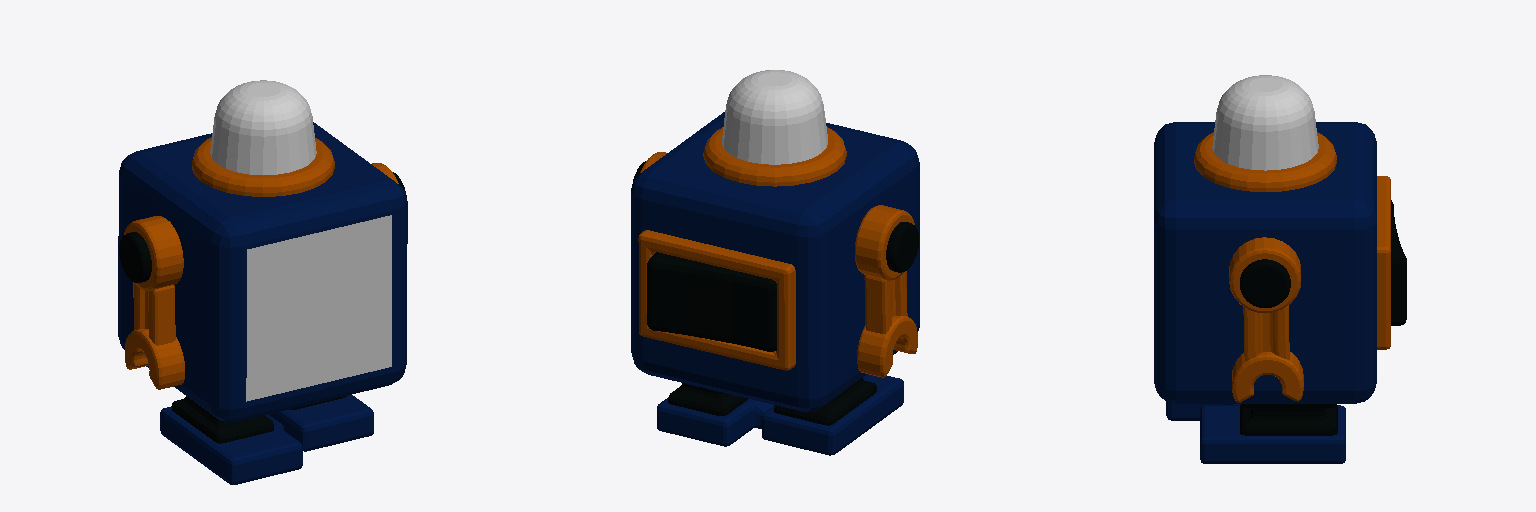
The model's file is blokky.obj.
3 renders of one model, left to right at view 1: azimuth 30°, elevation 25°; view 2: azimuth 150°, elevation 25°; view 3: azimuth 270°, elevation 25°, orthographic.
Visible parts, largest first — view 1: Cube, blokky-smile, Circle, Cylinder, Cube.002_Cube.001, Cube.001; view 2: Cube, Circle, Cube.004_Cube.003, Cylinder, Cube.003_Cube.002, Cube.002_Cube.001, Cube.001; view 3: Cube, Circle, Cylinder.001_Cylinder, Cube.001, Cube.003_Cube.002, Cube.004_Cube.003, Cube.002_Cube.001.
Part boxes in pixels (x1,y1,x2,y2): Cube: (118,122,407,421); blokky-smile: (246,215,391,401); Circle: (192,80,334,196); Cylinder: (119,216,184,389); Cube.002_Cube.001: (160,396,302,484); Cube.001: (268,395,373,451); Cube: (631,112,919,411); Circle: (703,70,846,186); Cube.004_Cube.003: (647,252,776,351); Cylinder: (855,205,918,377); Cube.003_Cube.002: (638,230,795,370); Cube.002_Cube.001: (762,374,903,455); Cube.001: (657,383,773,446); Cube: (1154,122,1376,403); Circle: (1194,75,1336,191); Cylinder.001_Cylinder: (1229,237,1303,402); Cube.001: (1200,404,1345,463); Cube.003_Cube.002: (1377,176,1390,349); Cube.004_Cube.003: (1391,200,1406,325); Cube.002_Cube.001: (1166,402,1240,420).
Size of the model in its own units: 2.75 by 3.38 by 2.28.